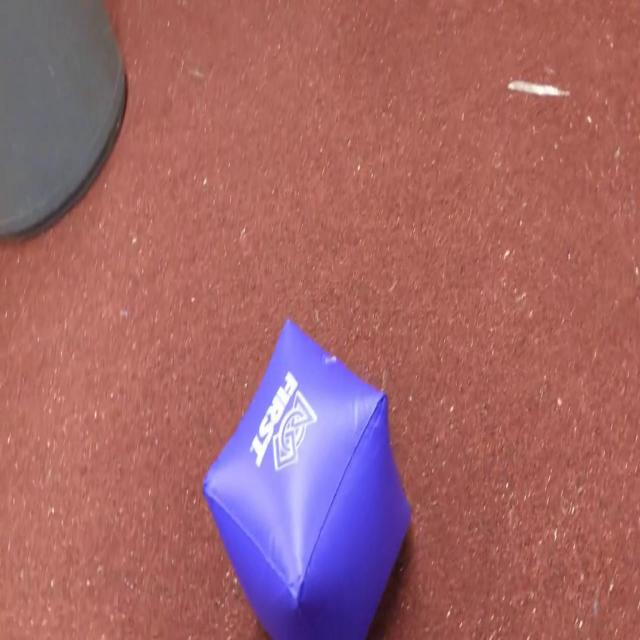frc_cube: (201, 315, 410, 640)
